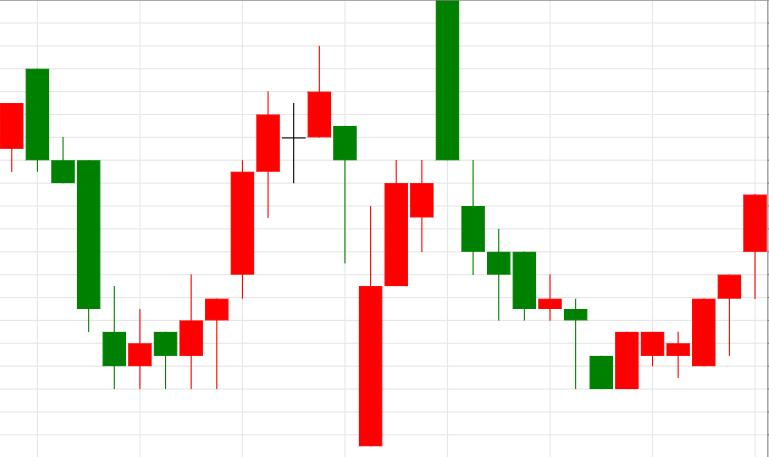bullish_engulfing_rise: (436, 1, 639, 390)
hanging_man_fall: (616, 275, 741, 390)
